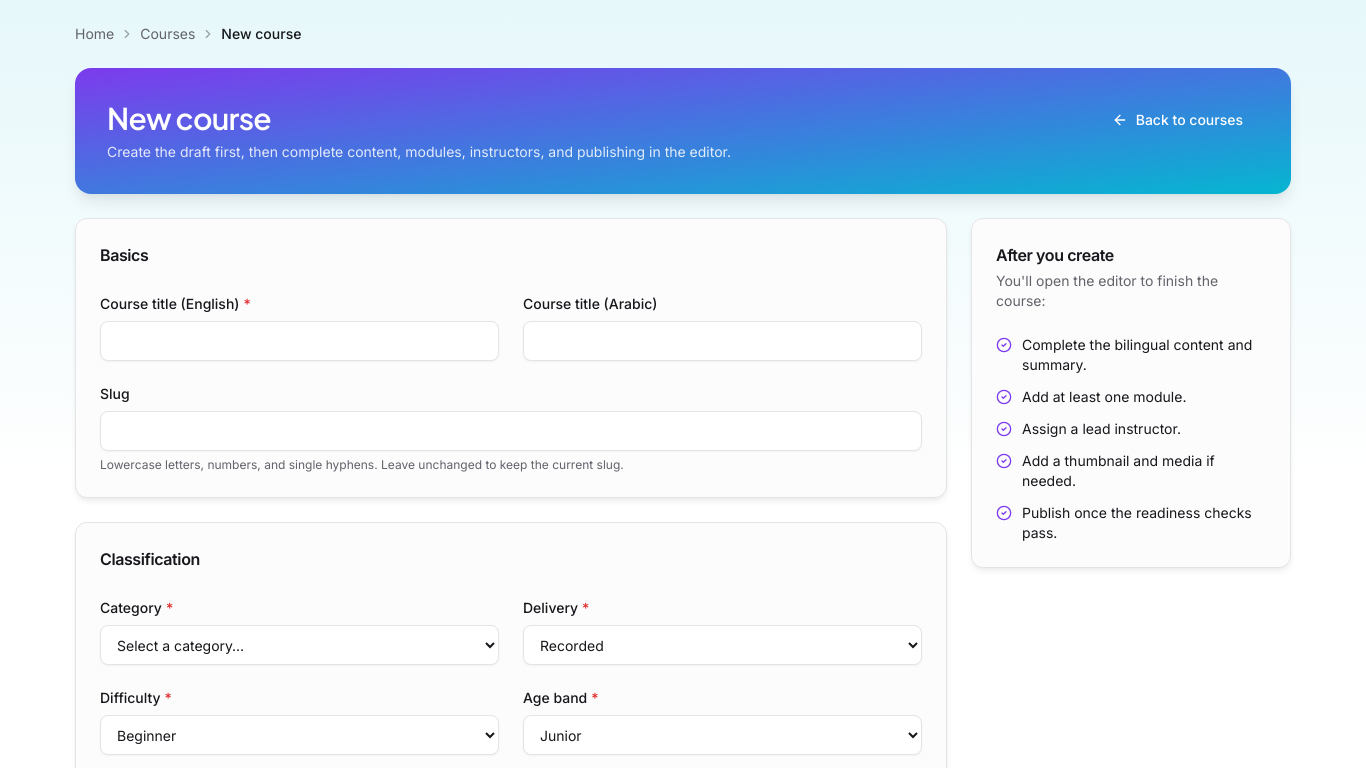
Test: CourseCreatePage › maps a 409 duplicate slug to the slug field and a summary
Type "My Course" into the field labelled "Course title (English)*" at (300, 341), box 100,321 -> 499,361
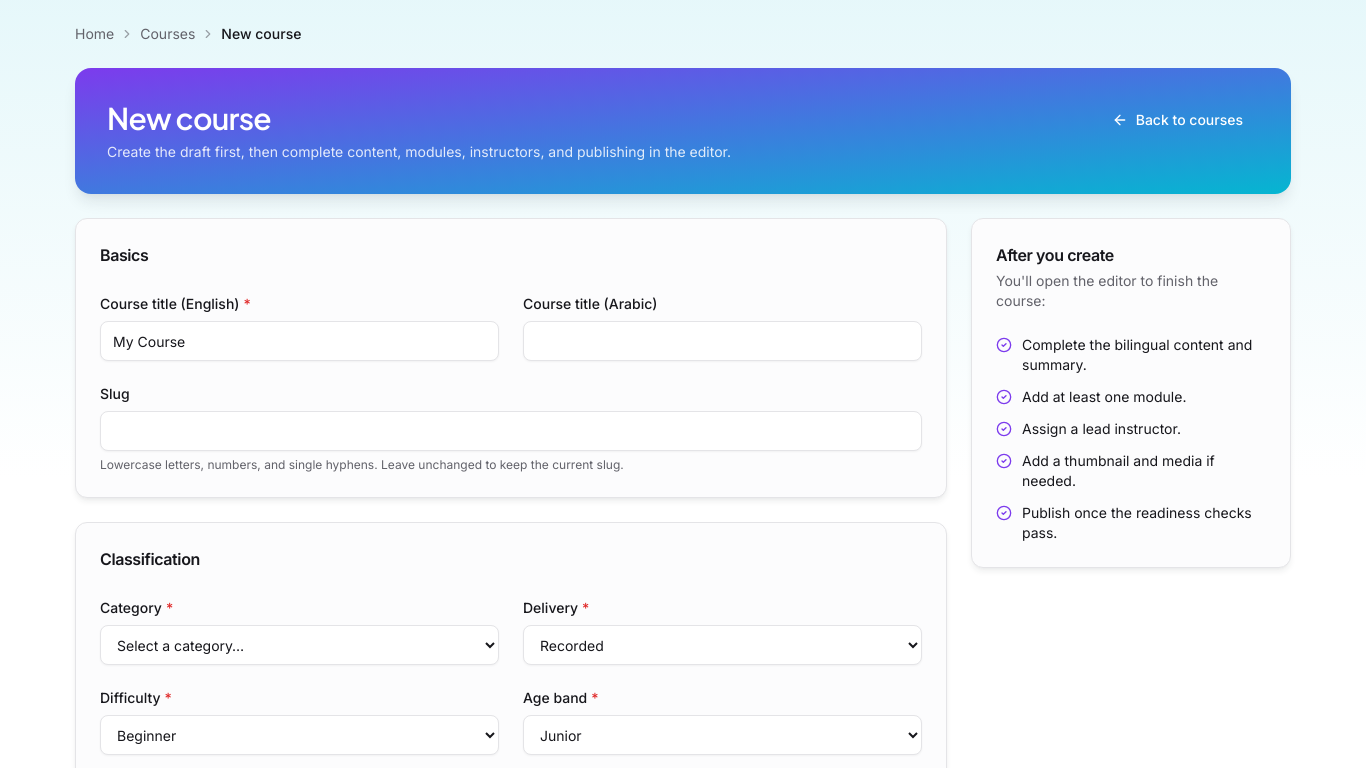
Select "Foundations" in the dropdown named "Foundations" at (300, 645), box 100,625 -> 499,665
(page scrolled)
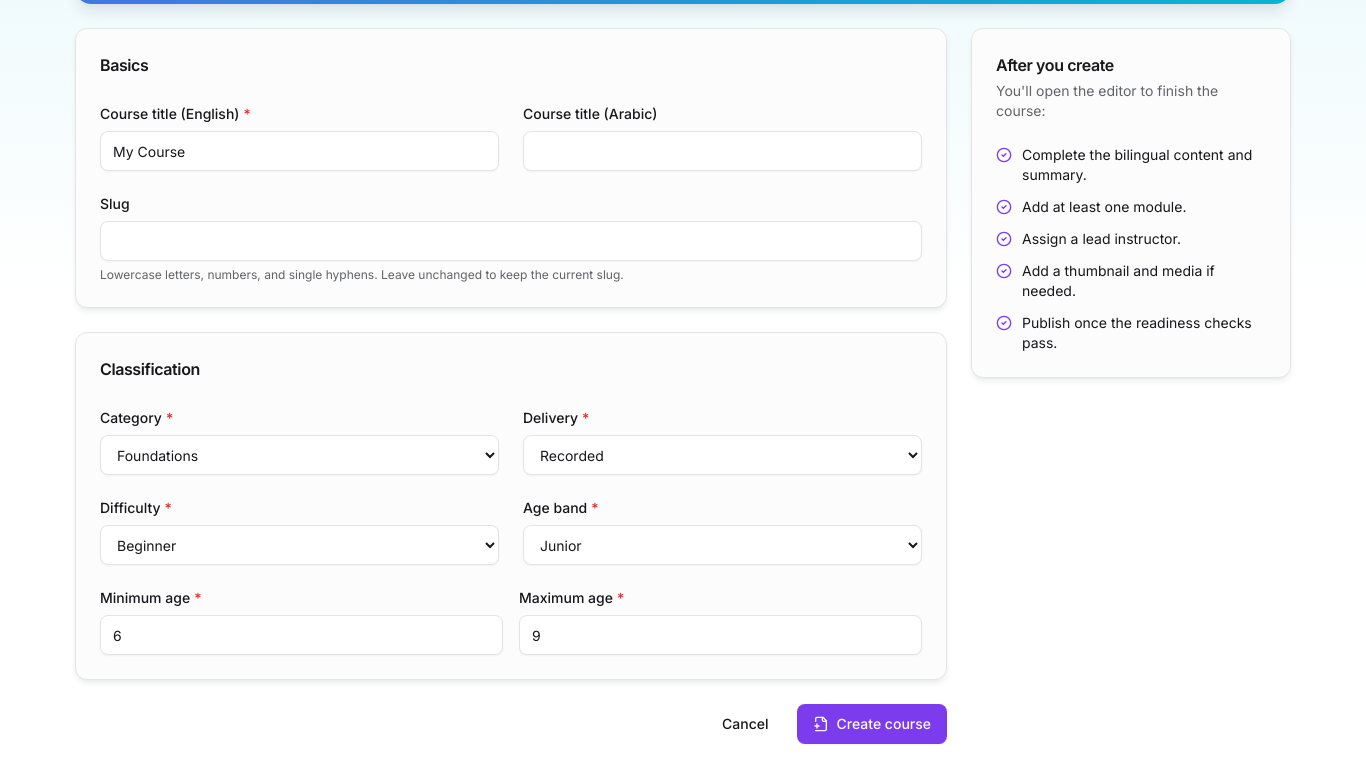
Click the button "Create course" at (872, 724), box 796,704 -> 947,744
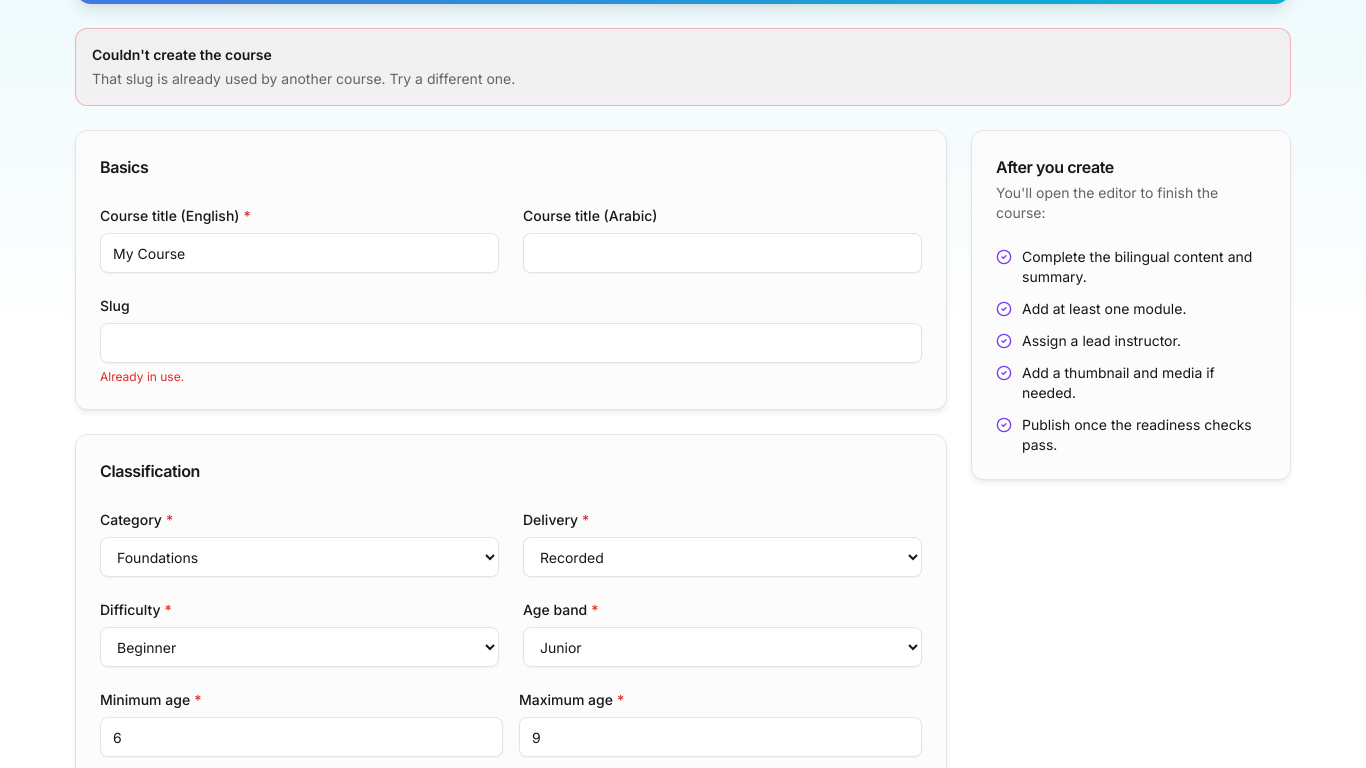
Expected: the text "already used by another course" is shown, 92,70 -> 515,87
